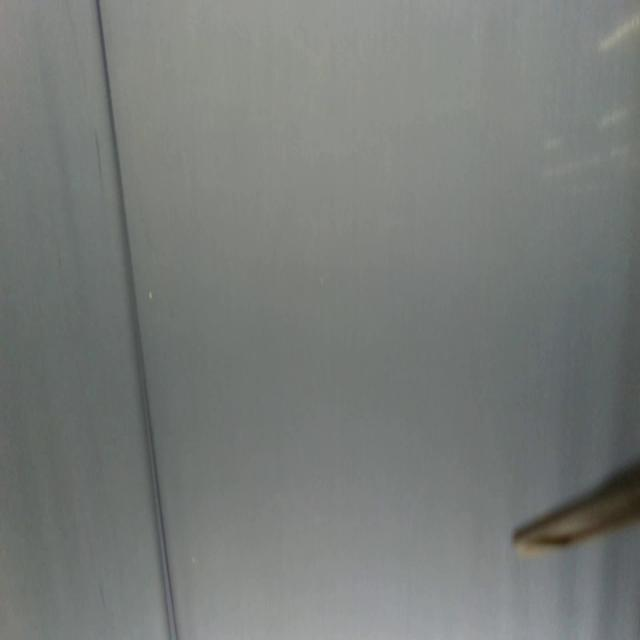crease: (95, 0, 180, 640)
hole: (148, 288, 154, 303)
